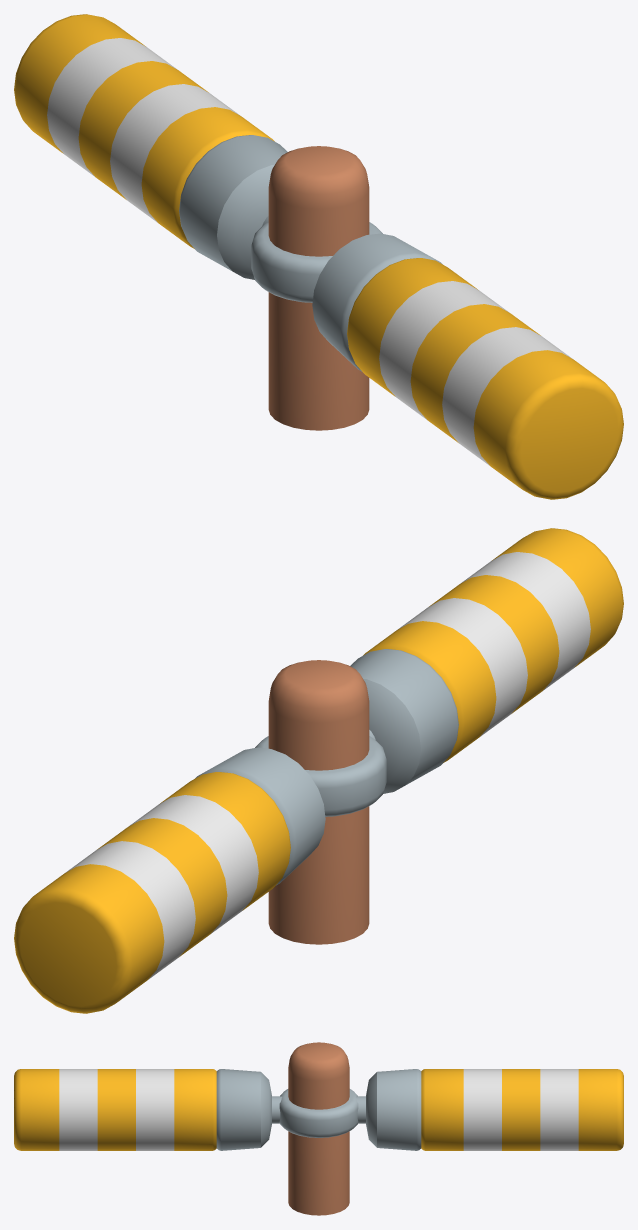
Rendered from swiperDouble_teamYellow-col.glb.
3 views of the same model, one above another, from view 1: azimuth 30°, elevation 25°; view 2: azimuth 150°, elevation 25°; view 3: azimuth 270°, elevation 25° (orthographic). The views are drawn at different scales.
Parts seen in each view (by area): view 1: swiperDouble_teamYellow-col; view 2: swiperDouble_teamYellow-col; view 3: swiperDouble_teamYellow-col.
Part boxes in pixels (x1,y1,x2,y2): swiperDouble_teamYellow-col: (14,14,623,499); swiperDouble_teamYellow-col: (14,528,623,1013); swiperDouble_teamYellow-col: (14,1042,623,1215).
Size of the model in its own units: 0.8059 by 1.63 by 5.96.
